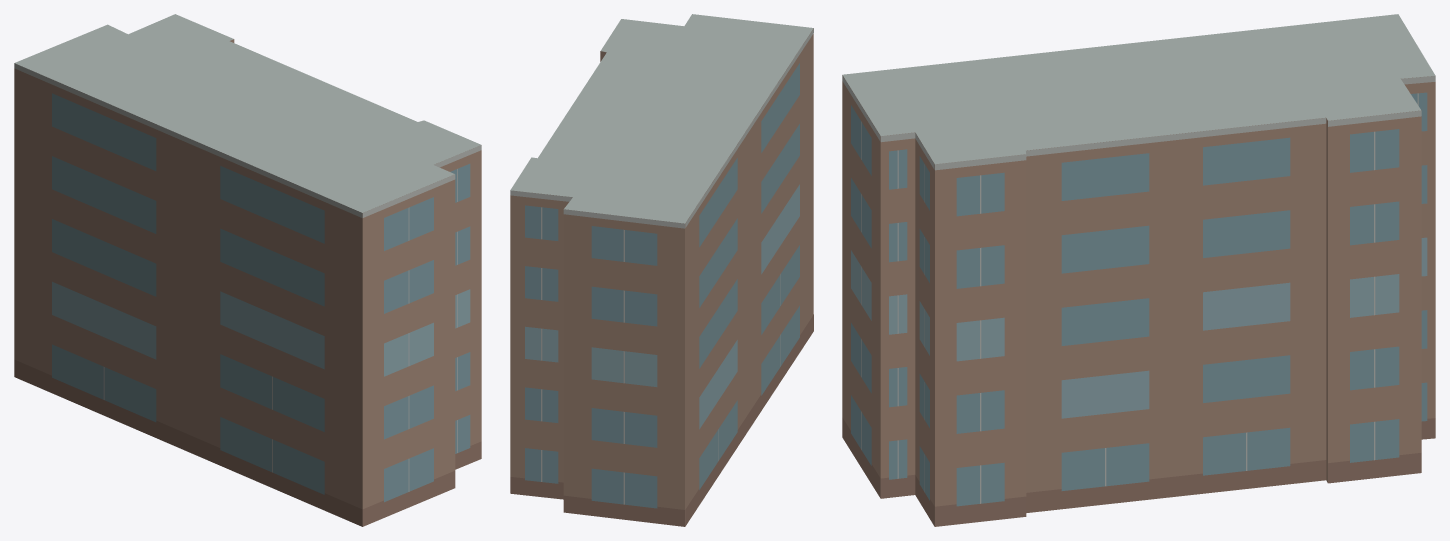
File: survey-upis-32957659.glb
3 renders of one model, left to right at view 1: azimuth 30°, elevation 25°; view 2: azimuth 150°, elevation 25°; view 3: azimuth 270°, elevation 25°, orthographic. The views are drawn at different scales.
Visible parts, largest first — view 1: survey-upis-32957659.tmp; view 2: survey-upis-32957659.tmp; view 3: survey-upis-32957659.tmp.
Boxes of the visible parts, left/top/right/bottom form: survey-upis-32957659.tmp: left=14, top=14, right=481, bottom=526; survey-upis-32957659.tmp: left=510, top=14, right=813, bottom=526; survey-upis-32957659.tmp: left=842, top=14, right=1435, bottom=526.
Bounding box in the file's own units: 13.04 × 14.65 × 21.74.
